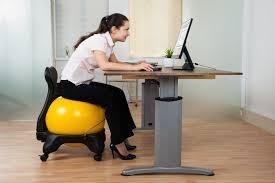bad-pose: (0, 0, 275, 183)
